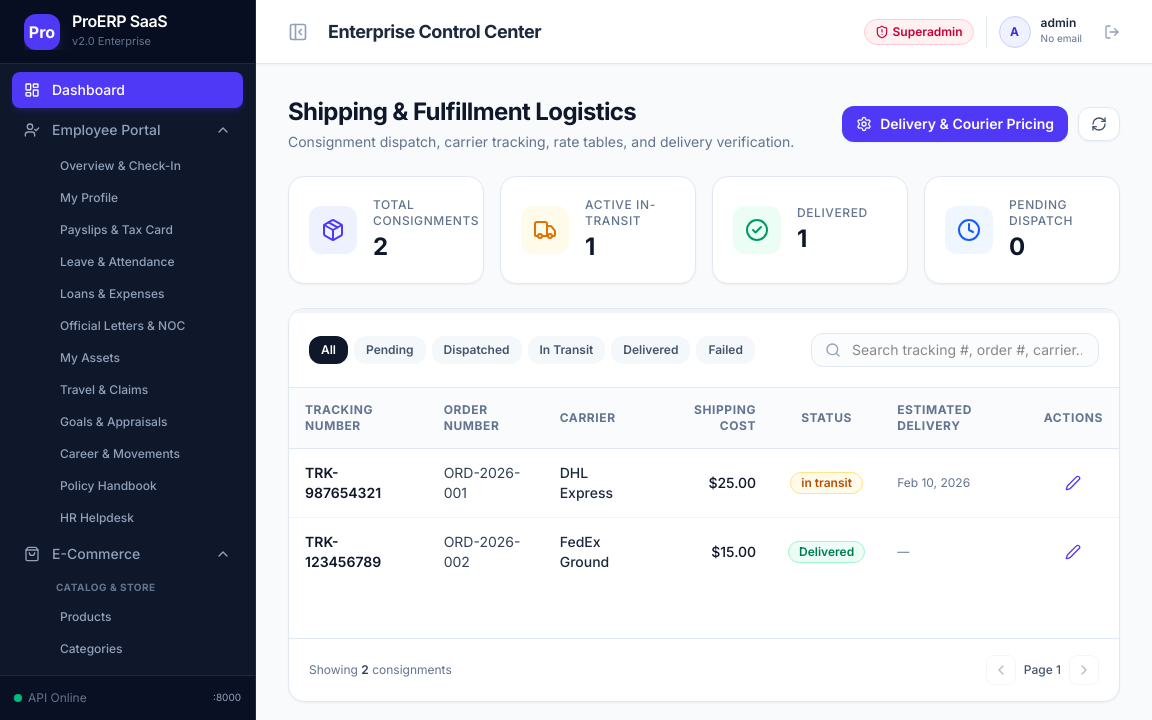
Test: Ecommerce Operations & Marketplaces In-Place Test Suite › renders shipping consignments and filters in-place
Expected: the text "TRK-987654321" is shown, [289, 448, 428, 518]
Expected: the text "DHL Express" is shown, [544, 448, 654, 518]
In the field with placeholder "Search tracking #, order #, carrier...": (955, 350) [811, 333, 1099, 367], type "DHL"
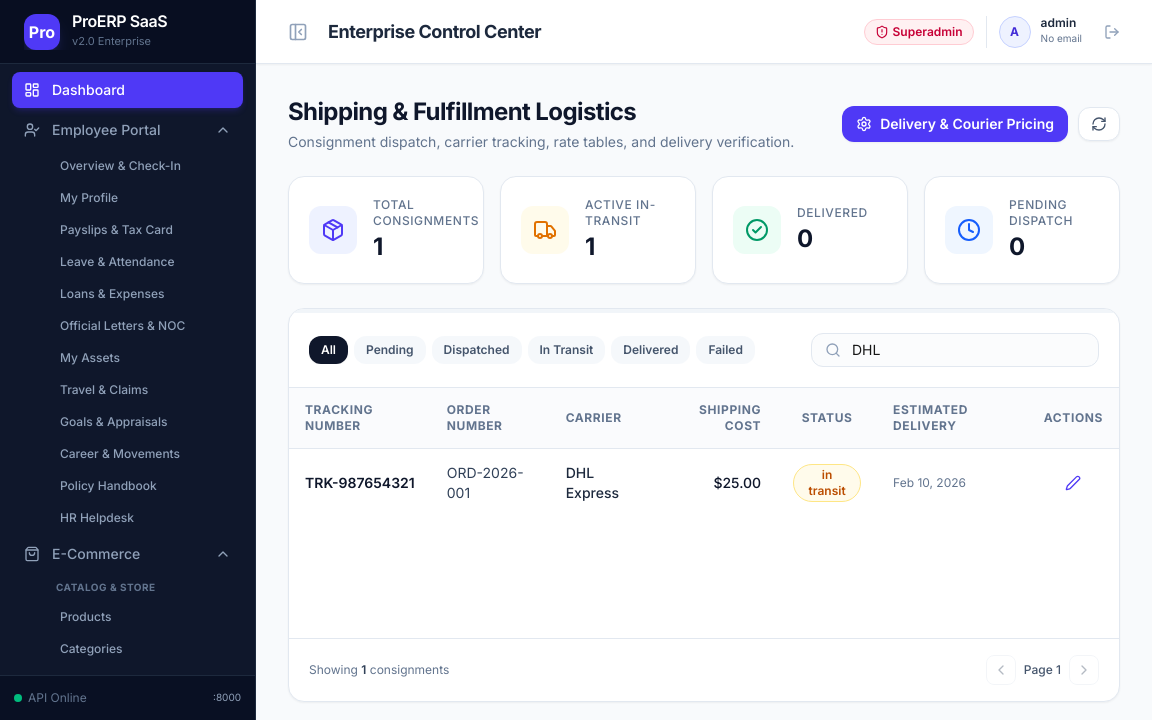
Expected: the text "TRK-987654321" is shown, [289, 448, 431, 517]
Expected: the text "FedEx Ground" is gone
